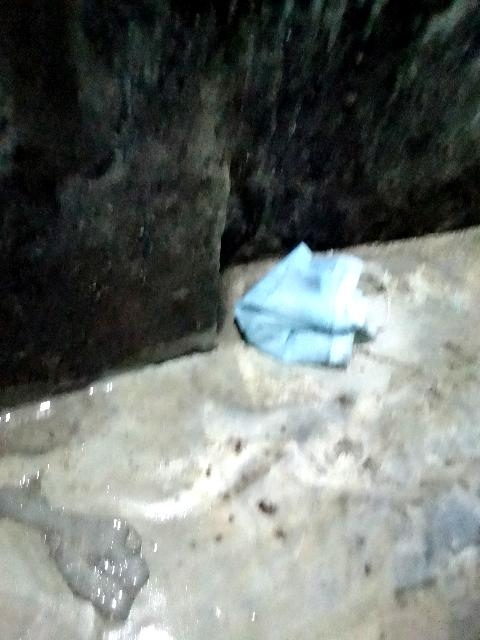mask: (246, 241, 371, 378)
